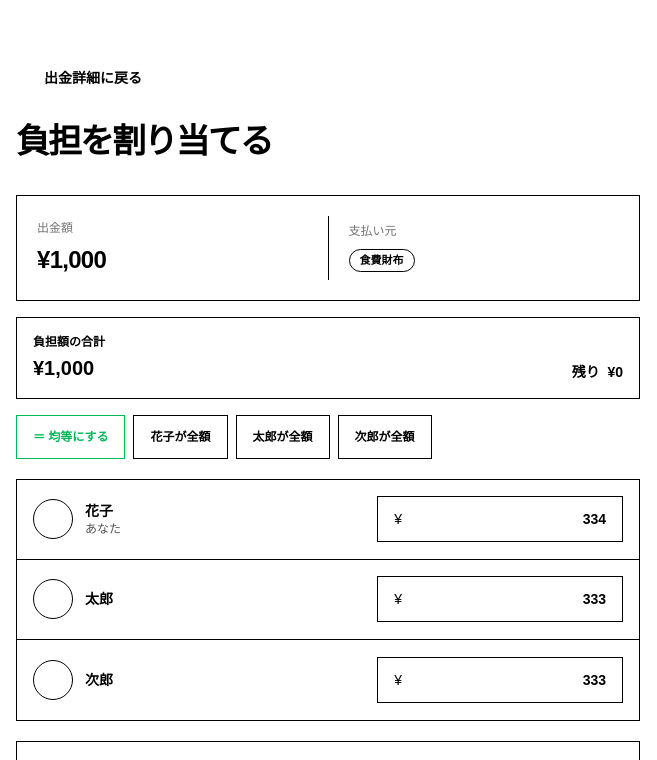
AllocationPage の金額ロジック接続 › personal の財布では所有者をプレビューから除き、所有者のみの負担では発行不可にする
Step 1. Click the button "花子が全額" → (180, 436), box [134,414,228,458]
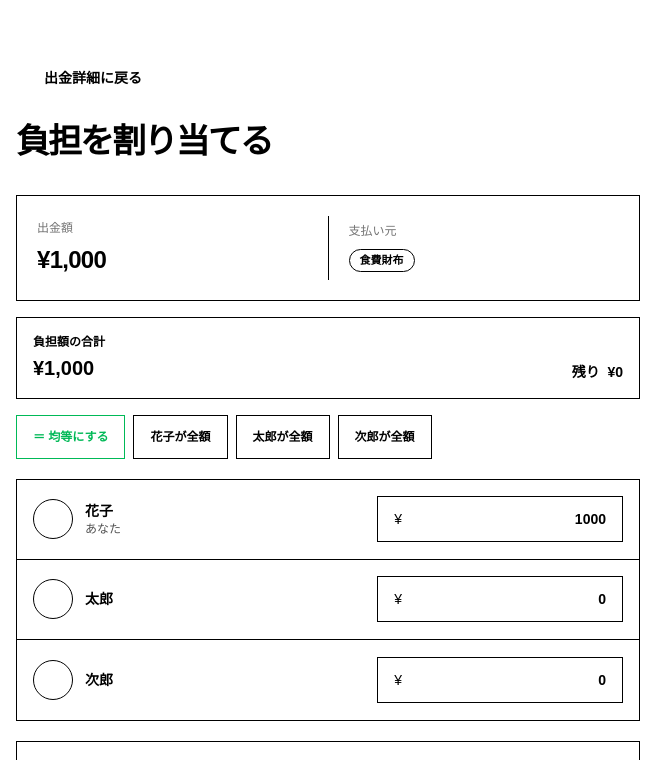
Step 2. Click the button "太郎が全額" → (282, 436), box [236,414,330,458]
(page scrolled)
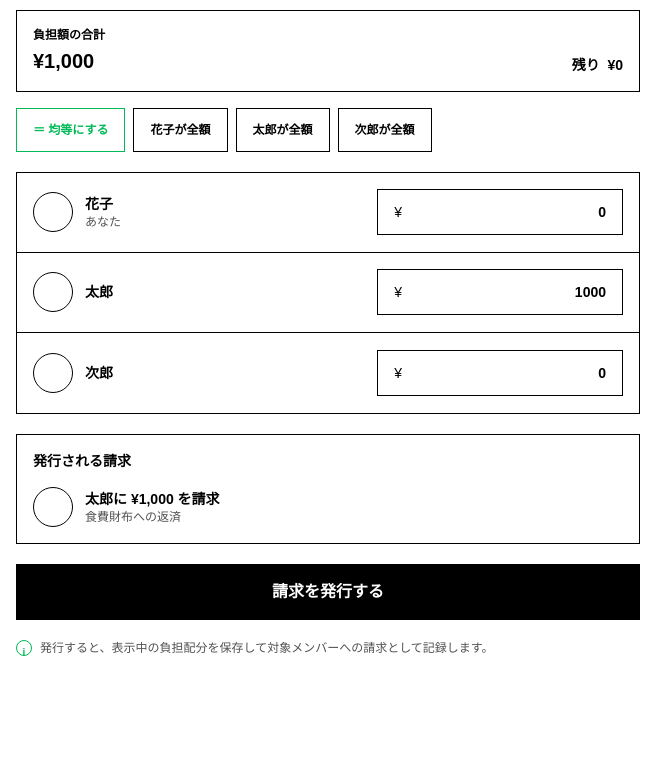
Check: the text "太郎に ¥1,000 を請求" is shown, box [85,490,220,506]
Check: the button "請求を発行する" is enabled, box [16,564,640,620]
